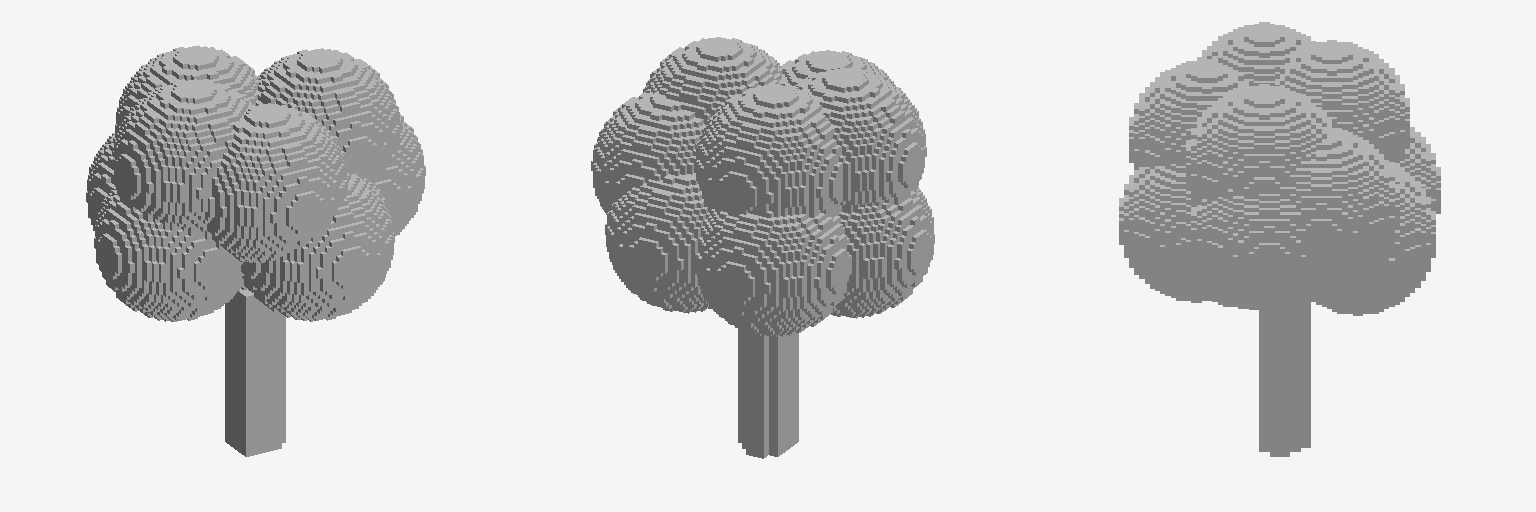
The model's file is Tree.vox.obj.
The picture shows the model from 3 angles: view 1: azimuth 30°, elevation 25°; view 2: azimuth 150°, elevation 25°; view 3: azimuth 270°, elevation 25°; orthographic projection.
Visible parts, largest first — view 1: object 1; view 2: object 1; view 3: object 1.
Boxes of the visible parts, x1=… form: object 1: x1=86, y1=45, x2=425, y2=456; object 1: x1=591, y1=37, x2=934, y2=458; object 1: x1=1119, y1=22, x2=1440, y2=456.
Bounding box in the file's own units: 6.7 × 8 × 6.2.